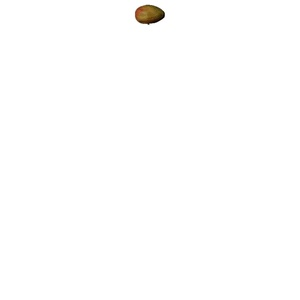mamão: (131, 3, 172, 27)
